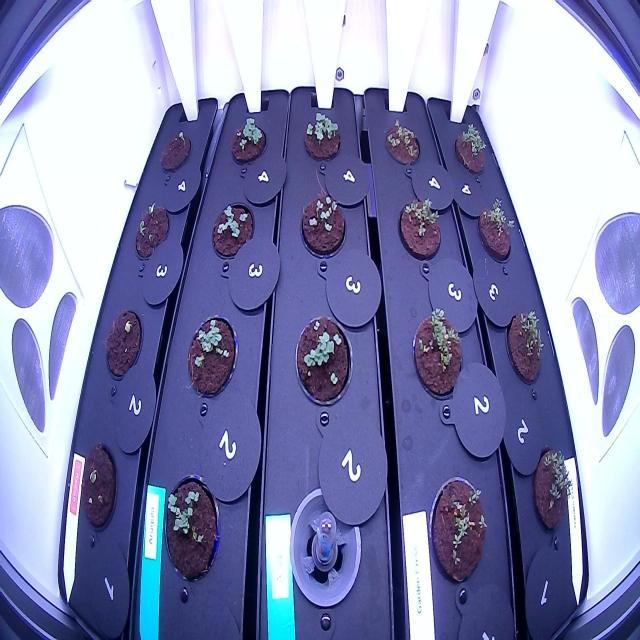germination: (424, 468, 492, 594), (161, 467, 222, 591), (291, 309, 357, 411), (408, 299, 467, 409), (185, 305, 240, 406), (528, 442, 577, 551), (74, 437, 120, 534), (502, 303, 548, 392), (294, 187, 348, 261), (101, 298, 144, 384), (394, 193, 444, 265), (206, 198, 257, 262), (476, 189, 516, 270), (133, 195, 171, 265), (452, 117, 490, 187), (380, 115, 424, 173), (226, 113, 268, 168), (301, 109, 342, 165), (158, 124, 194, 177)
